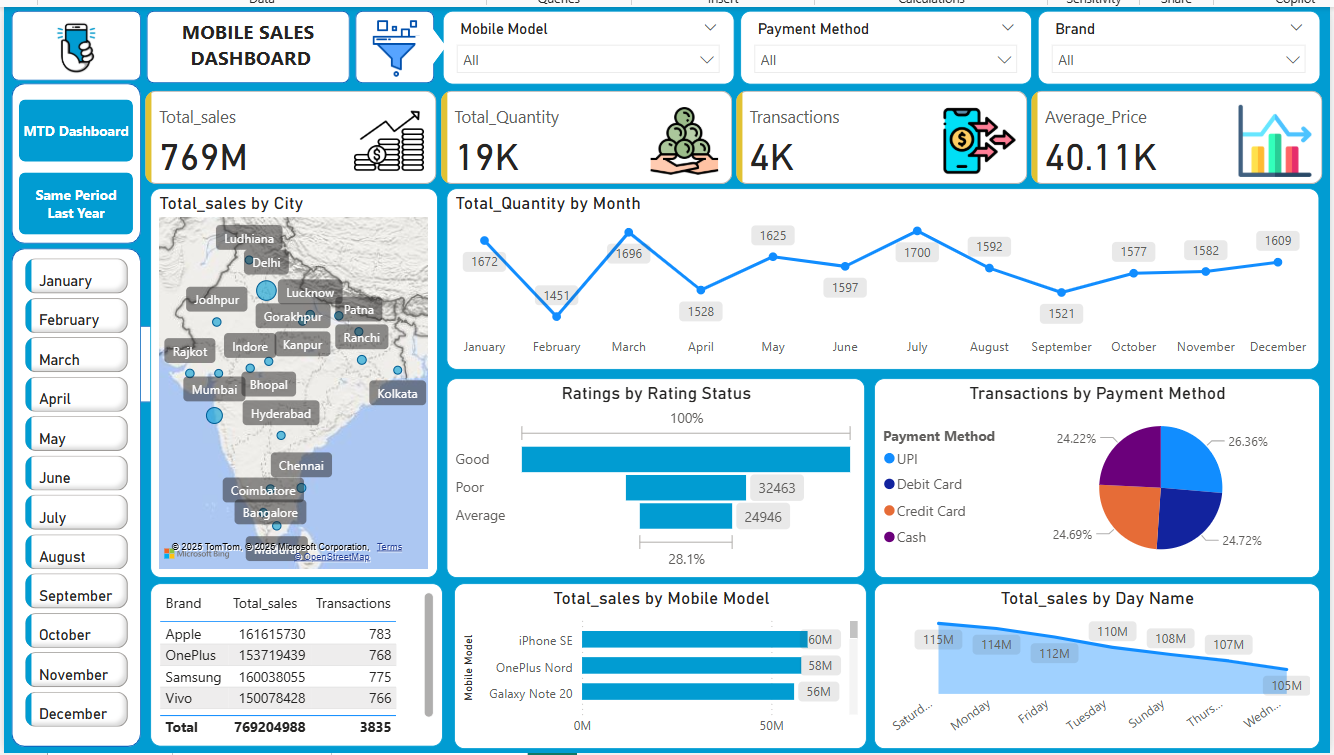

The page's visual inventory and layout, read from the dashboard file:
{"tool":"powerbi","page":{"name":"Dashboard","canvas":[1280,720],"ordinal":0},"visuals":[{"type":"shape","box":[116.6,307.4,115.3,74.1],"z":0},{"type":"shape","box":[7.5,3.8,125,67.5],"z":1000},{"type":"image","box":[30.2,4.1,79.6,71.4],"z":2000},{"type":"shape","box":[7.5,73.8,125,155],"z":3000},{"type":"shape","box":[7.5,232.5,125,481.2],"z":4000},{"type":"cardVisual","fields":{"Data":["Mobile_Sales_Data.Total_sales","Mobile_Sales_Data.Total_Quantity","Mobile_Sales_Data.Transactions","Mobile_Sales_Data.Average_Price"]},"box":[131.7,75.5,1147.2,100.2],"z":5000},{"type":"advancedSlicerVisual","fields":{"Values":["Custom_Calender.Date.Variation.Date Hierarchy.Month"]},"box":[15.1,237.4,109.8,472],"z":6000},{"type":"slicer","fields":{"Values":["Mobile_Sales_Data.Payment Method"]},"box":[710,3.8,281.2,71.2],"z":6500},{"type":"slicer","fields":{"Values":["Mobile_Sales_Data.Mobile Model"]},"box":[423.8,3.8,281.2,71.2],"z":7000},{"type":"slicer","fields":{"Values":["Mobile_Sales_Data.Brand"]},"box":[997.5,3.8,272.5,71.2],"z":9000},{"type":"shape","box":[338.8,3.8,76.2,70],"z":10000},{"type":"image","box":[337.6,6.9,81,65.9],"z":11000},{"type":"shape","box":[397.5,17.5,30,40],"z":12000},{"type":"shape","box":[137.5,3.8,196.2,70],"z":13000},{"type":"textbox","box":[156.2,6.2,162.5,63.8],"z":14000},{"type":"map","fields":{"Category":["Mobile_Sales_Data.City"],"Size":["Mobile_Sales_Data.Total_sales"]},"box":[141.2,175,277.5,376.2],"z":15000},{"type":"lineChart","fields":{"Category":["Custom_Calender.Date.Variation.Date Hierarchy.Month"],"Y":["Mobile_Sales_Data.Total_Quantity"]},"box":[427.5,175,842.5,175],"z":16000},{"type":"funnel","title":"Ratings by Rating Status","fields":{"Category":["Mobile_Sales_Data.Rating_status"],"Y":["Sum(Mobile_Sales_Data.Customer Age)"]},"box":[427.5,358.8,403.8,192.5],"z":17000},{"type":"pieChart","fields":{"Y":["Mobile_Sales_Data.Transactions"],"Category":["Mobile_Sales_Data.Payment Method"]},"box":[840,358.8,430,192.5],"z":18000},{"type":"clusteredBarChart","fields":{"Category":["Mobile_Sales_Data.Mobile Model"],"Y":["Mobile_Sales_Data.Total_sales"]},"box":[433.8,556.2,398.8,160],"z":19000},{"type":"areaChart","fields":{"Category":["Custom_Calender.Day Name"],"Y":["Mobile_Sales_Data.Total_sales"]},"box":[840,556.2,430,160],"z":20000},{"type":"tableEx","fields":{"Values":["Mobile_Sales_Data.Brand","Mobile_Sales_Data.Total_sales","Mobile_Sales_Data.Transactions"]},"box":[141.2,556.2,282.5,157.5],"z":21000},{"type":"pageNavigator","box":[15,88.8,110,130],"z":22000}]}

Visuals, with their boxes in screenshot pixels (x1, y1, x2, y2):
shape: box(123, 319, 242, 396)
shape: box(11, 7, 140, 77)
image: box(35, 8, 116, 81)
shape: box(11, 79, 140, 239)
shape: box(11, 242, 140, 737)
cardVisual - Mobile_Sales_Data.Total_sales x Mobile_Sales_Data.Total_Quantity: box(139, 81, 1318, 184)
advancedSlicerVisual - Custom_Calender.Date.Variation.Date Hierarchy.Month: box(19, 247, 132, 733)
slicer - Mobile_Sales_Data.Payment Method: box(733, 7, 1022, 81)
slicer - Mobile_Sales_Data.Mobile Model: box(439, 7, 728, 81)
slicer - Mobile_Sales_Data.Brand: box(1029, 7, 1309, 81)
shape: box(352, 7, 430, 79)
image: box(350, 11, 434, 78)
shape: box(412, 21, 443, 63)
shape: box(145, 7, 346, 79)
textbox: box(164, 10, 331, 75)
map - Mobile_Sales_Data.City x Mobile_Sales_Data.Total_sales: box(149, 183, 434, 570)
lineChart - Custom_Calender.Date.Variation.Date Hierarchy.Month x Mobile_Sales_Data.Total_Quantity: box(443, 183, 1309, 363)
"Ratings by Rating Status" funnel: box(443, 372, 858, 570)
pieChart - Mobile_Sales_Data.Transactions x Mobile_Sales_Data.Payment Method: box(867, 372, 1309, 570)
clusteredBarChart - Mobile_Sales_Data.Mobile Model x Mobile_Sales_Data.Total_sales: box(449, 575, 859, 740)
areaChart - Custom_Calender.Day Name x Mobile_Sales_Data.Total_sales: box(867, 575, 1309, 740)
tableEx - Mobile_Sales_Data.Brand x Mobile_Sales_Data.Total_sales: box(149, 575, 439, 737)
pageNavigator: box(19, 95, 132, 228)
